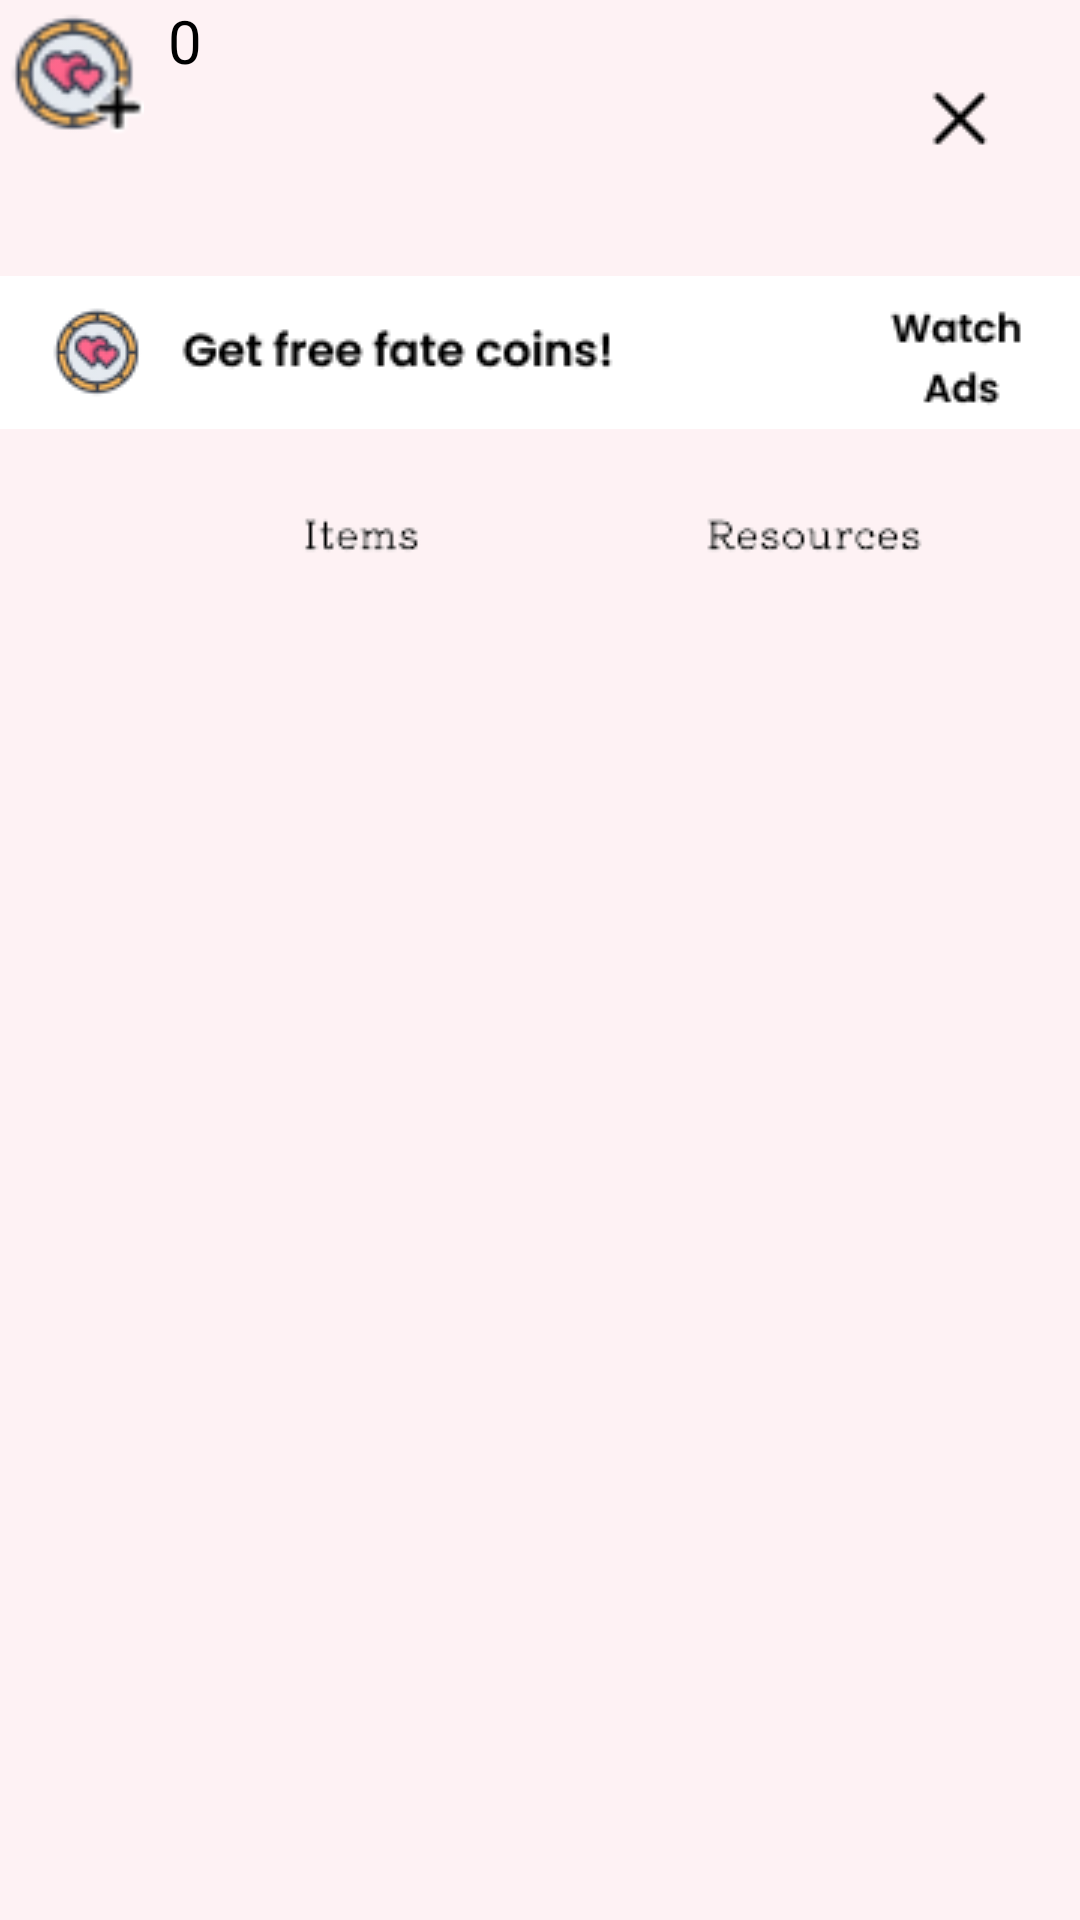

Icons on this 1080 x 1920 Android screen, each with the point to tap as [x,y]:
exit: [959,118]
Tokens: [77,73]
